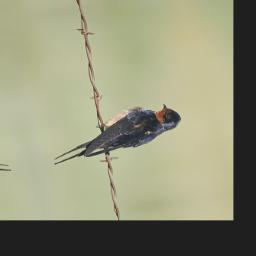Swallow: (41, 100, 191, 167)
